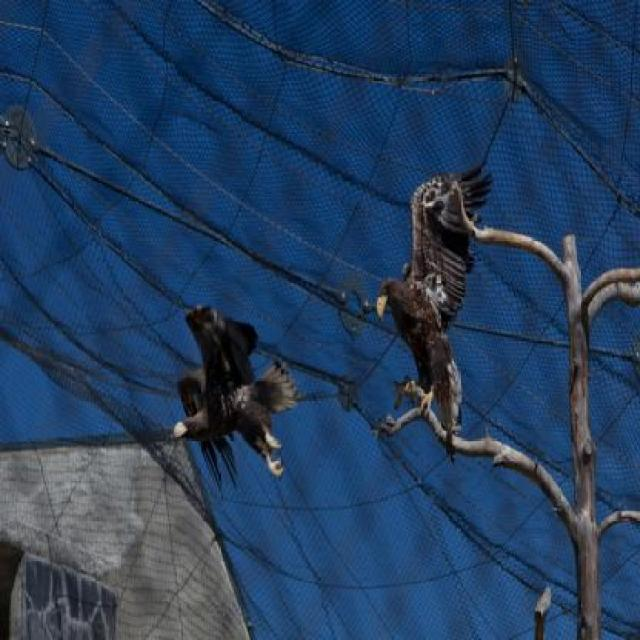Eagle: (371, 168, 493, 448), (170, 305, 300, 481)
